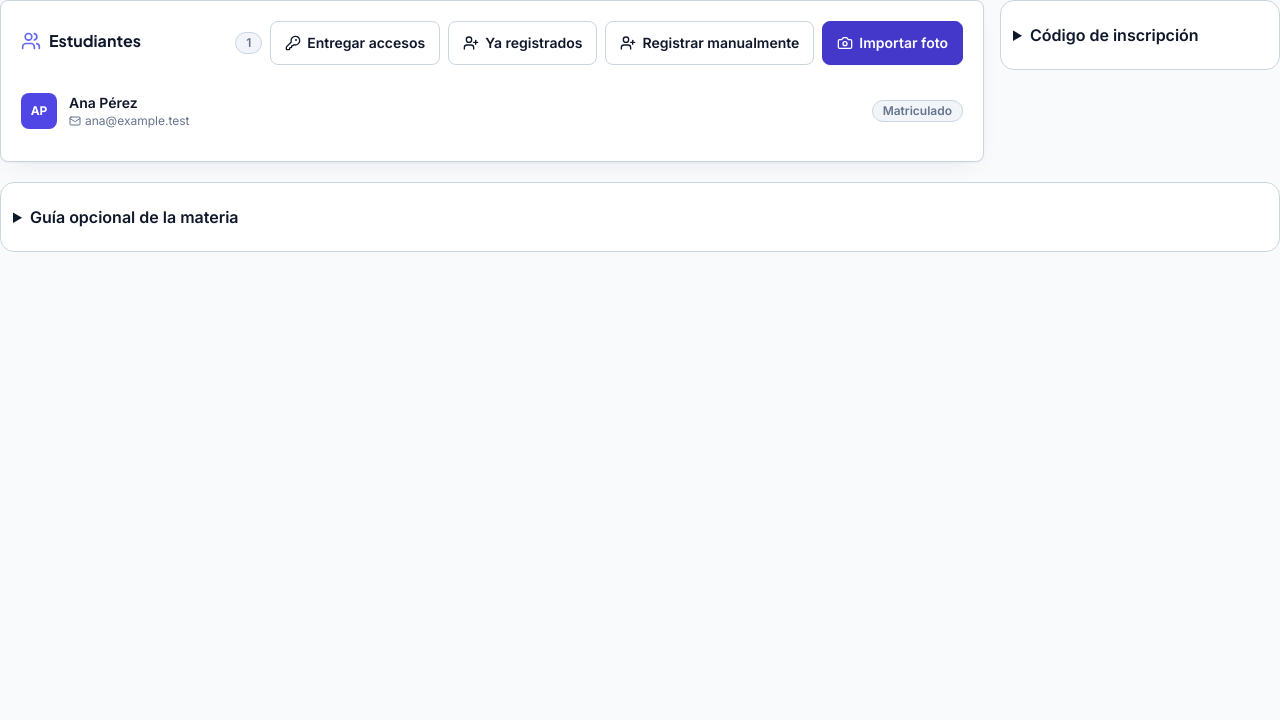
MateriaVistaGeneral teacher journey › enables grading and follow-up when prerequisites are ready
Click the heading "Guía opcional de la materia".
click(134, 217)  # box [30,207,238,227]
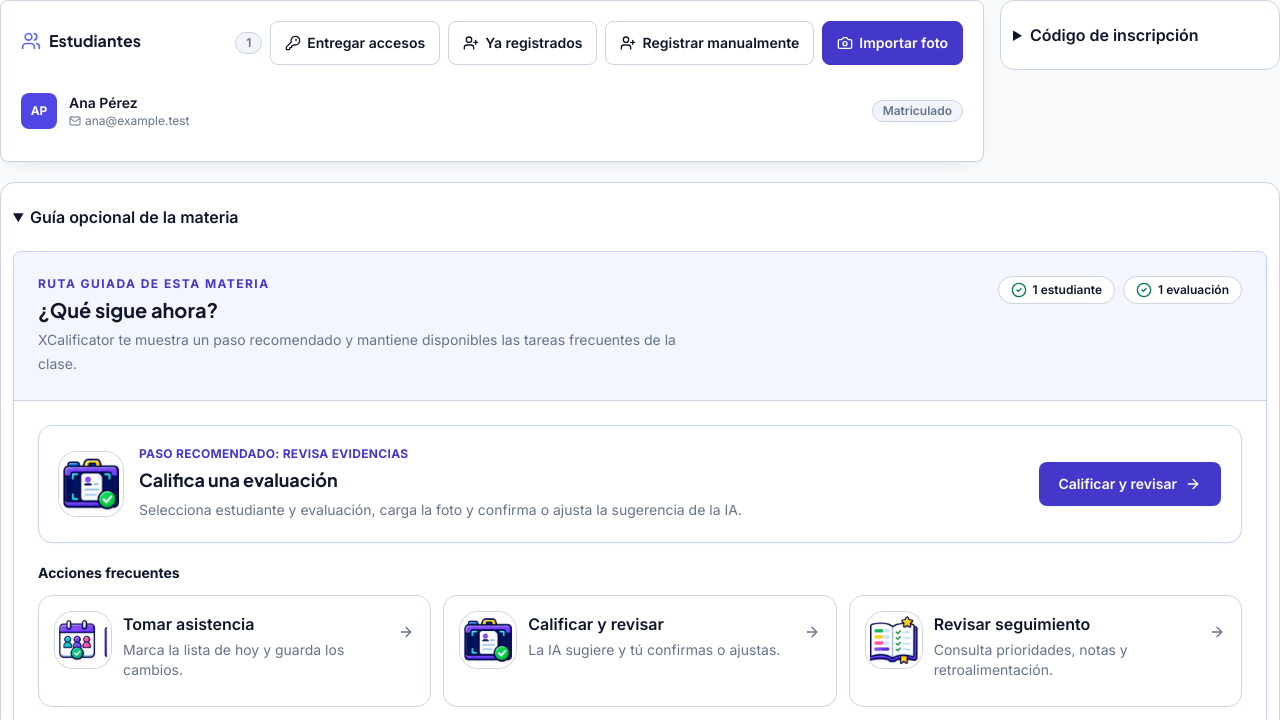
Expected: the heading "Califica una evaluación" is shown, [139,468,338,491]
